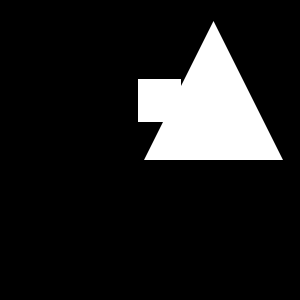circle: (138, 79, 181, 122)
triangle: (144, 21, 283, 160)
